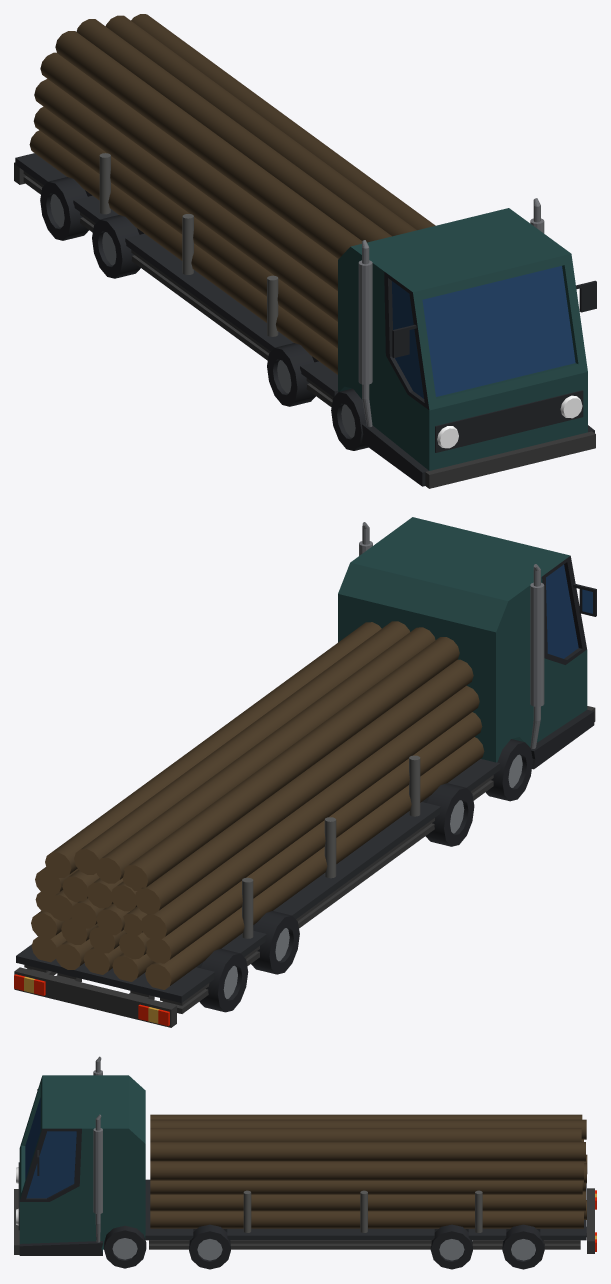
Rendered from Truck_4.fbx.
3 views of the same model, one above another, from view 1: azimuth 30°, elevation 25°; view 2: azimuth 150°, elevation 25°; view 3: azimuth 270°, elevation 25° (orthographic). The views are drawn at different scales.
Visible parts, largest first — view 1: Truck_4; view 2: Truck_4; view 3: Truck_4.
Boxes of the visible parts, x1,y1,x2,y2 form: Truck_4: (14, 14, 596, 488); Truck_4: (14, 517, 596, 1027); Truck_4: (14, 1056, 596, 1269).
Bounding box in the file's own units: 228 × 239 × 820.
